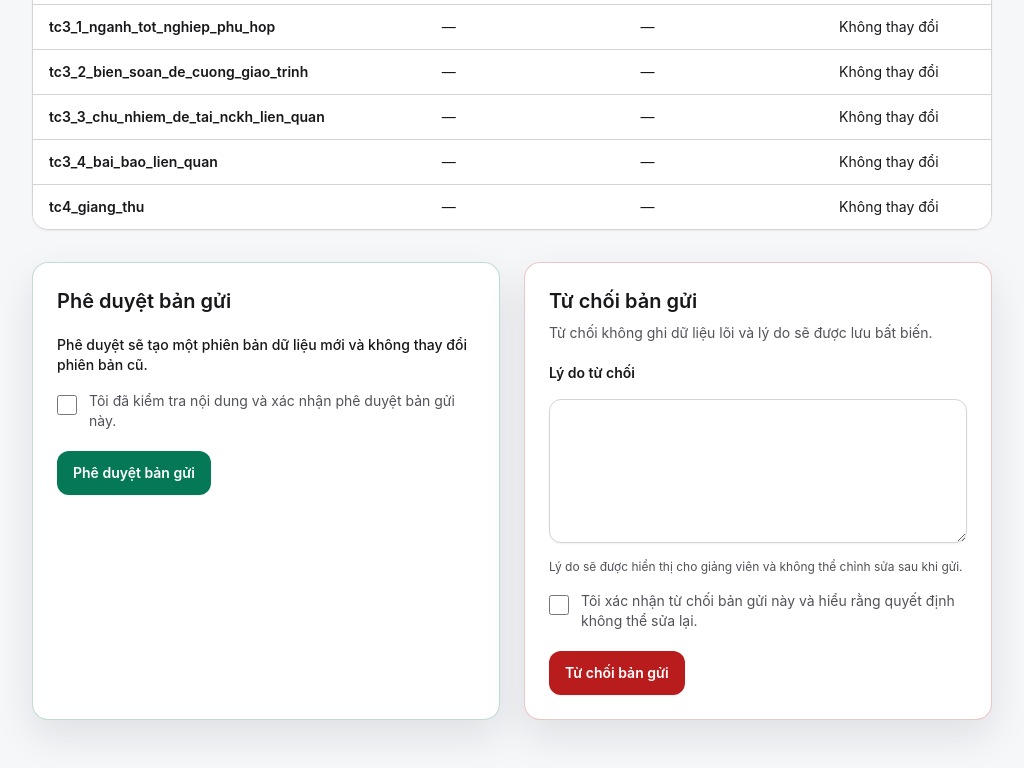
Test: Phase 4 leader approval UI › disables the button and exposes a pending state while approving
(page scrolled)
Click the checkbox labelled "Tôi đã kiểm tra nội dung và xác nhận phê duyệt bản gửi này." at coordinates (67, 405), box [57,395,77,415]
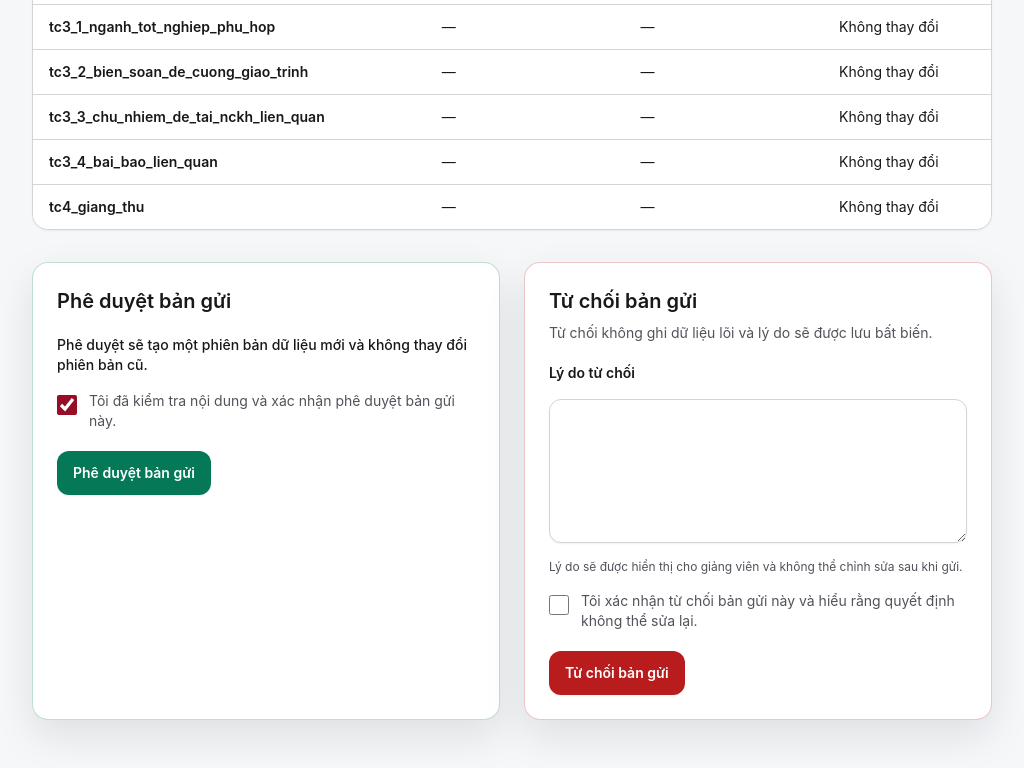
Submit the form named "Tôi đã kiểm tra nội dung", box [57,335,475,495]
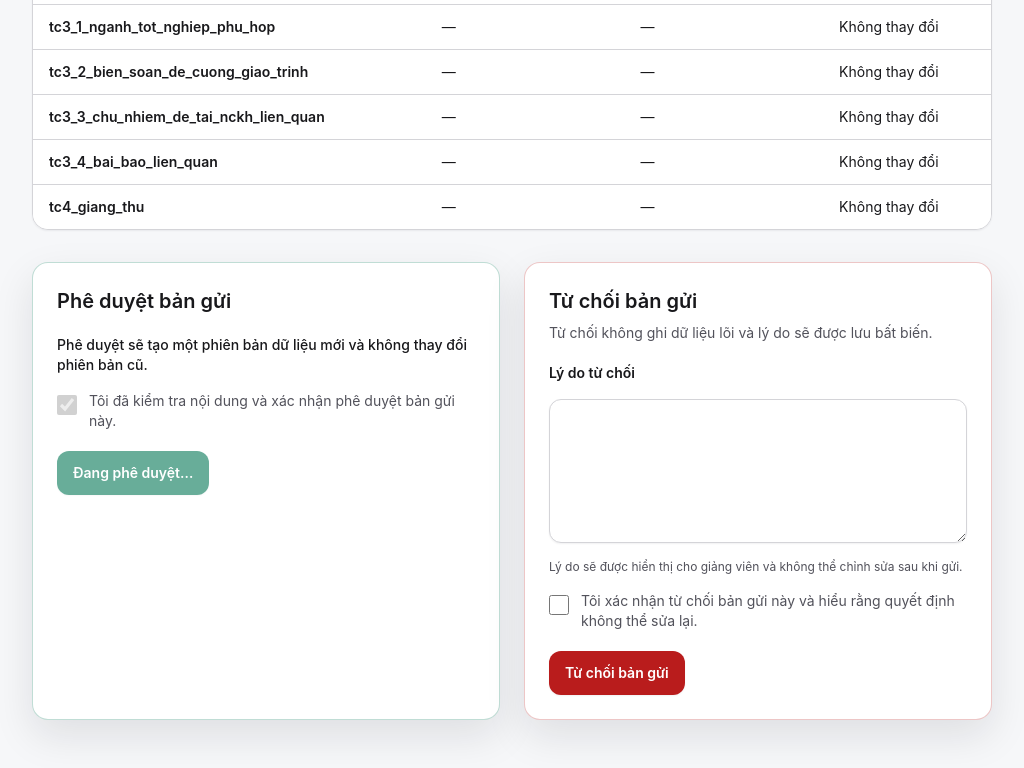
Result: the button "Đang phê duyệt…" is disabled at [57,451,209,495]
